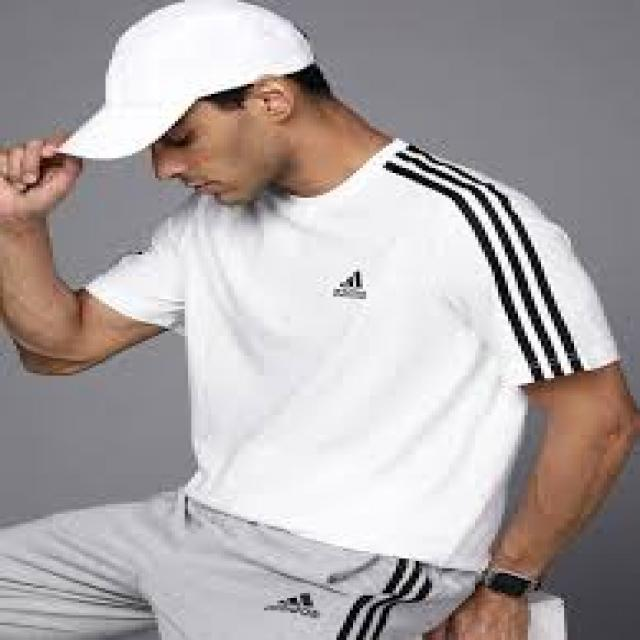Adidas: (331, 264, 371, 304)
